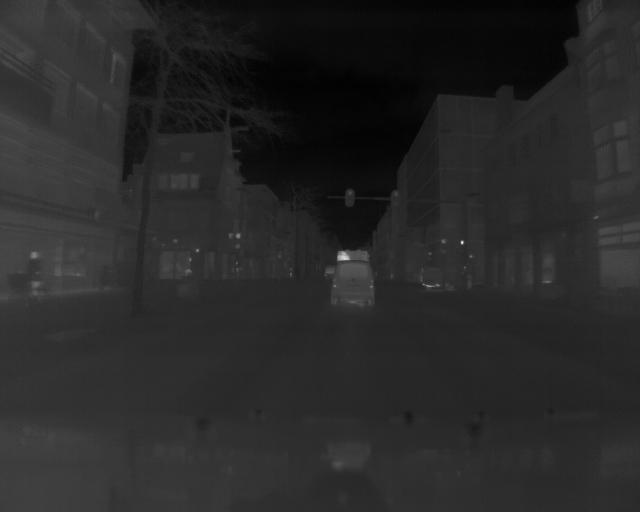car: (328, 261, 377, 309)
